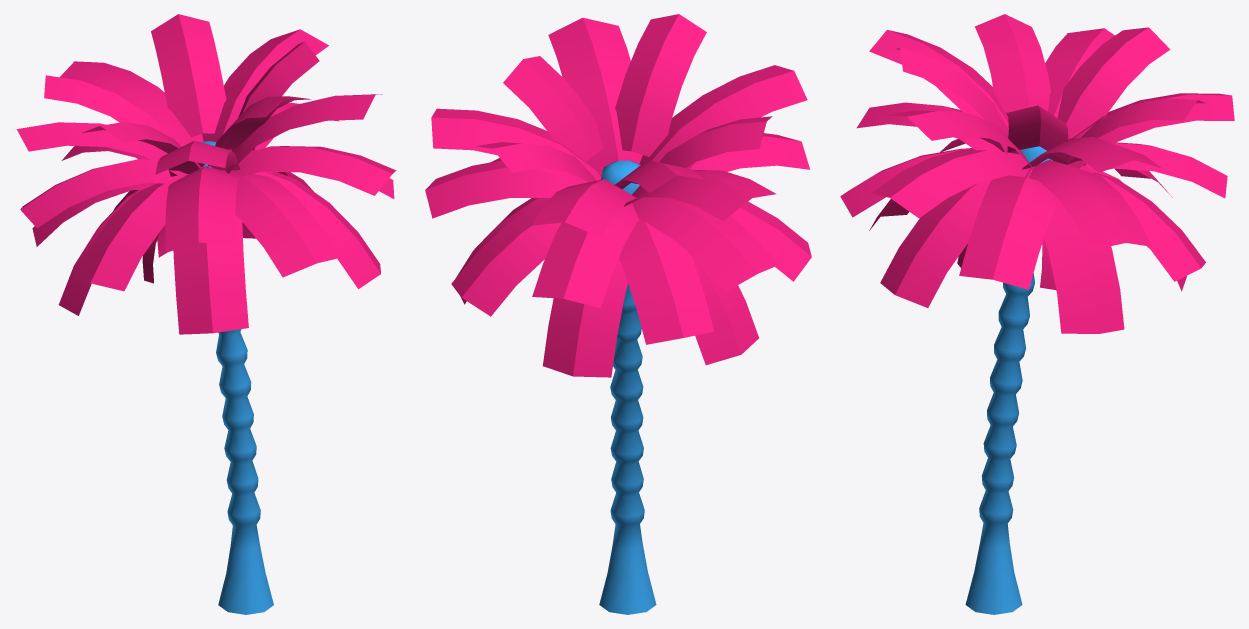
The model's file is Prop_palmera.FBX.
3 renders of one model, left to right at view 1: azimuth 30°, elevation 25°; view 2: azimuth 150°, elevation 25°; view 3: azimuth 270°, elevation 25°, orthographic. The views are drawn at different scales.
Visible parts, largest first — view 1: Cylinder001; view 2: Cylinder001; view 3: Cylinder001.
Part boxes in pixels (x1,y1,x2,y2): Cylinder001: (16, 14, 396, 614); Cylinder001: (425, 14, 811, 614); Cylinder001: (840, 14, 1234, 614).
Size of the model in its own units: 5.43 by 8.57 by 5.54.
